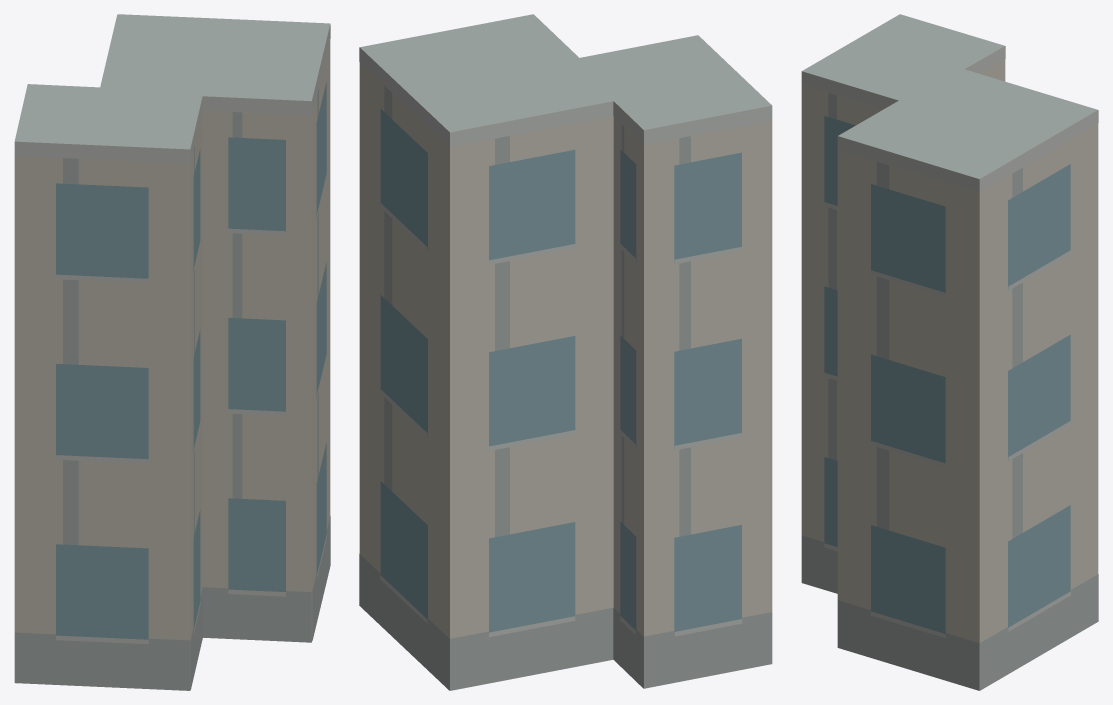
File: survey-upis-32821676.glb
3 views of the same model, side by side, from view 1: azimuth 30°, elevation 25°; view 2: azimuth 150°, elevation 25°; view 3: azimuth 270°, elevation 25° (orthographic). The views are drawn at different scales.
Parts seen in each view (by area): view 1: survey-upis-32821676.tmp; view 2: survey-upis-32821676.tmp; view 3: survey-upis-32821676.tmp.
Part boxes in pixels (box(x1,y1,x2,y2)): survey-upis-32821676.tmp: box(14, 14, 330, 690); survey-upis-32821676.tmp: box(359, 14, 772, 690); survey-upis-32821676.tmp: box(801, 14, 1098, 690).
Bounding box in the file's own units: 6.34 × 9.15 × 4.82.
